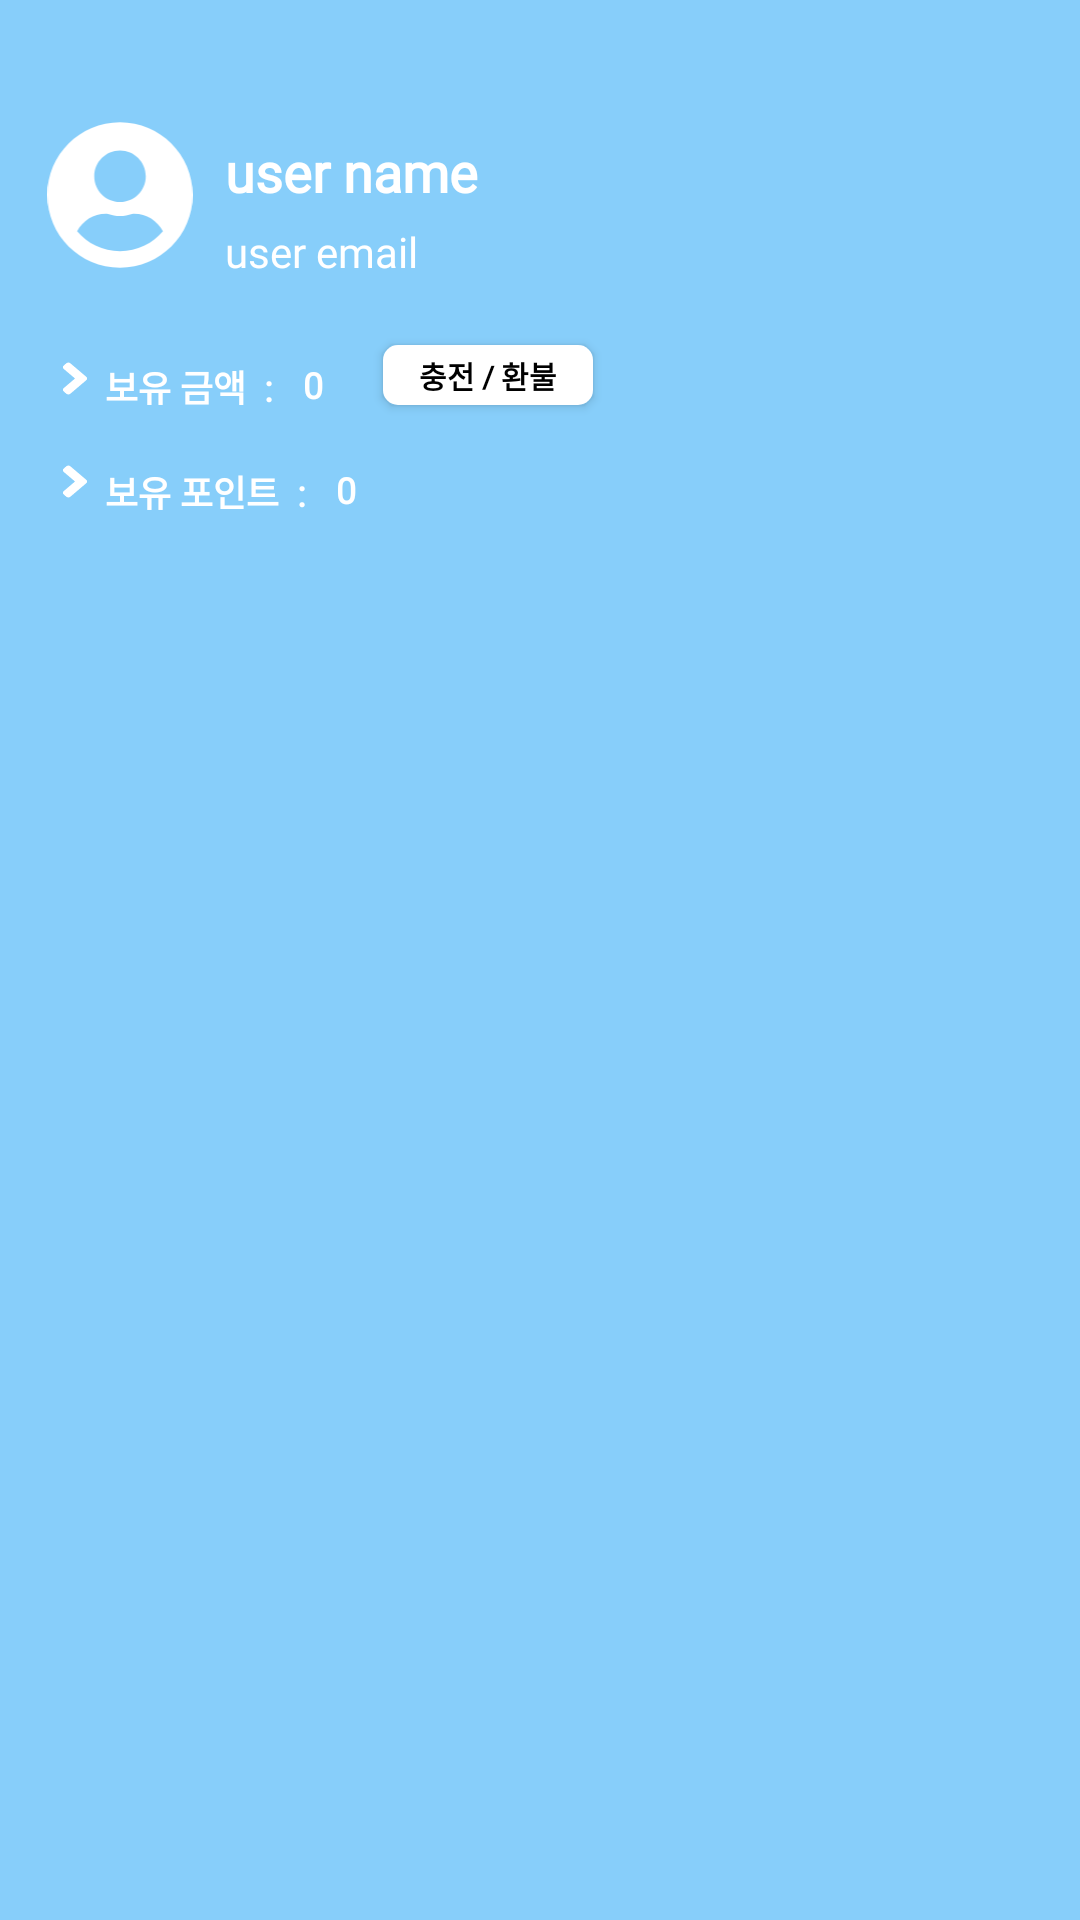

Icon bounding boxes for this 1080w x 1920h phone screenshot, format (x1, y1, x2, y2):
angle right: (63, 362, 87, 395), (63, 465, 87, 498)
user circle: (47, 122, 193, 268)
